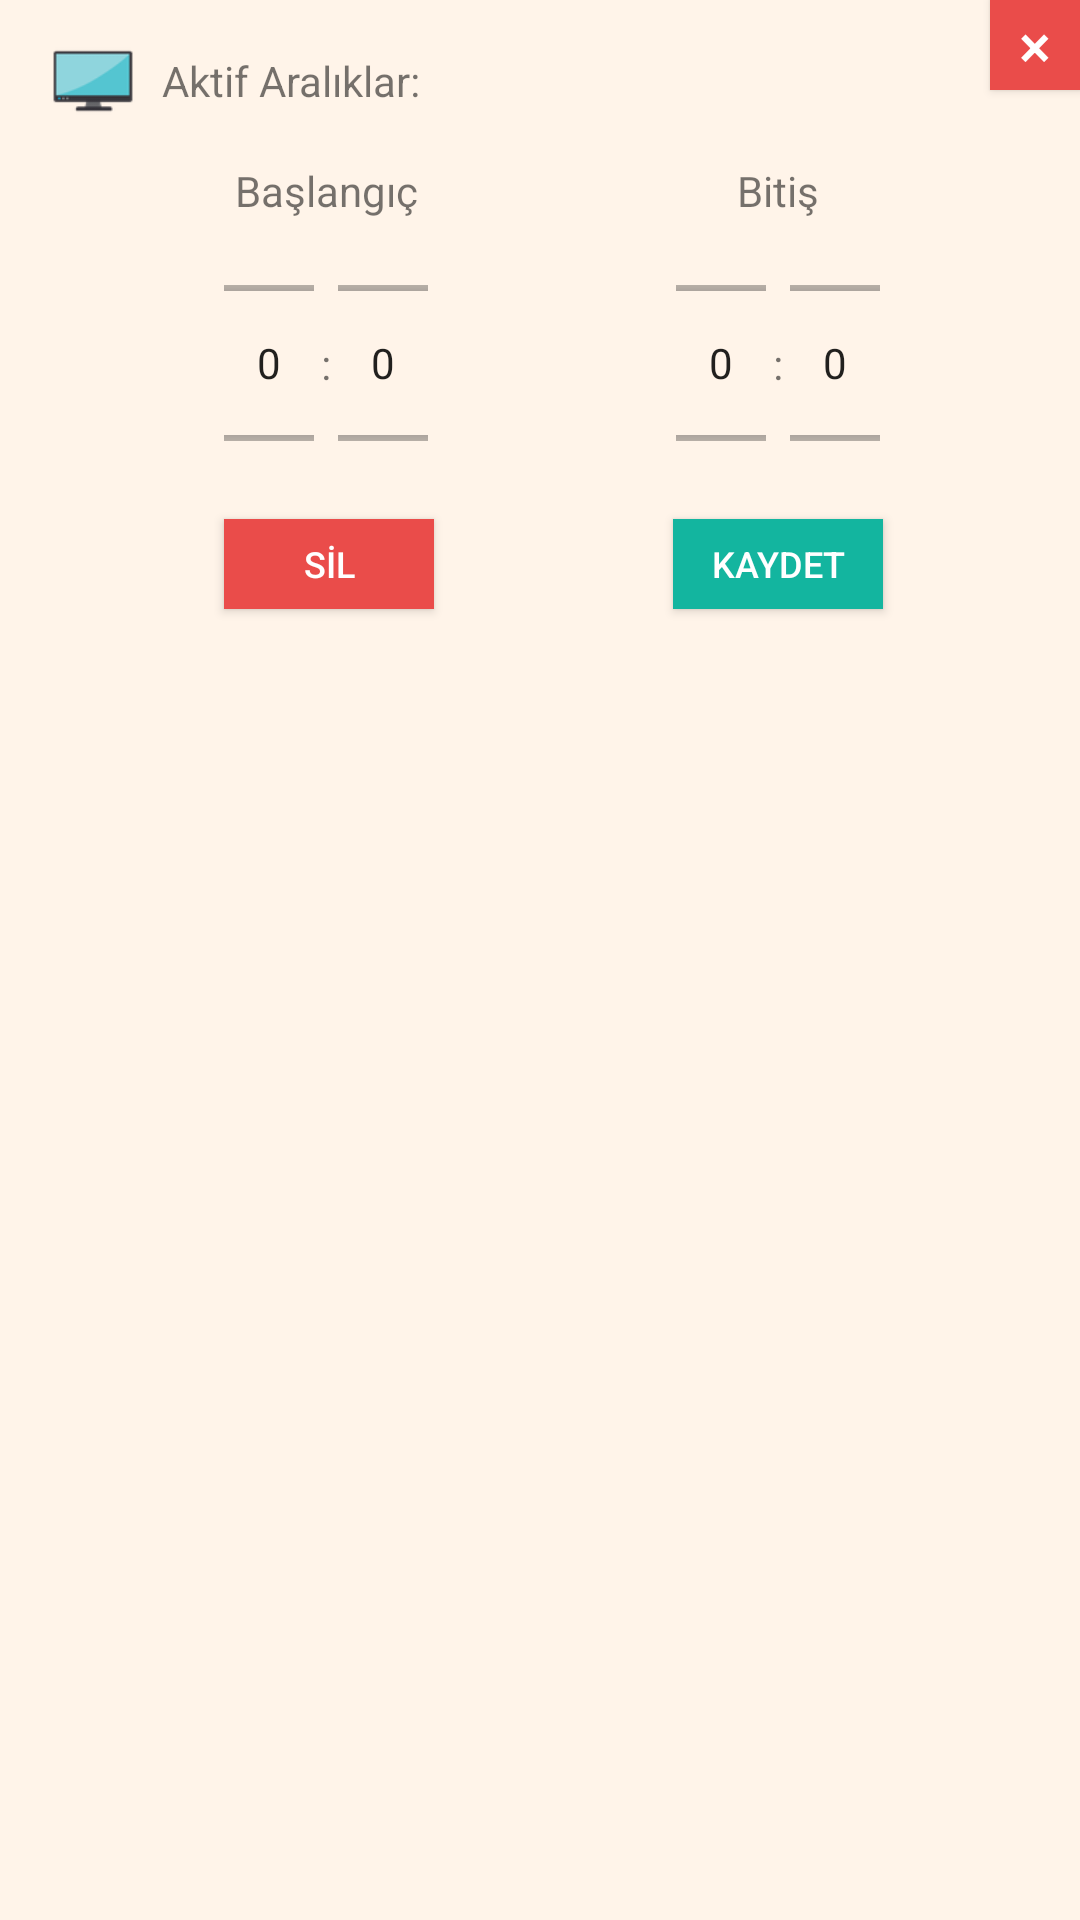

Icon click points for this 1080 x 1920 phone screenshot, format point (x, y):
pc mini: point (93, 81)
